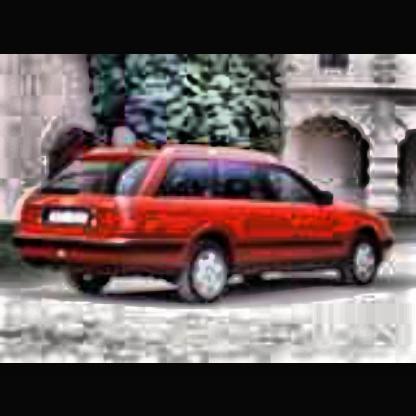Audi 100 Wagon 1994: (6, 137, 406, 319)
